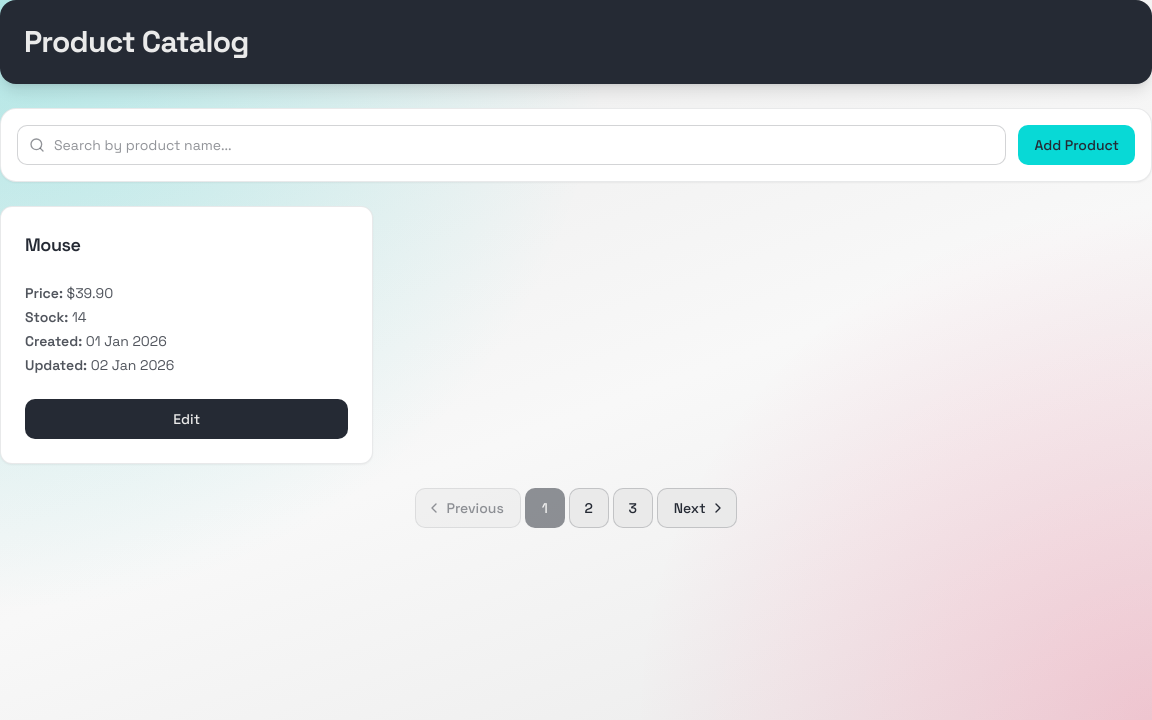
Scenario: ProductListPage integration › moves page via pagination and resets to page 1 when search changes
The image size is (1152, 720).
Click the button with aria-label "Go to next page".
click(697, 508)  # box [657,488,737,528]
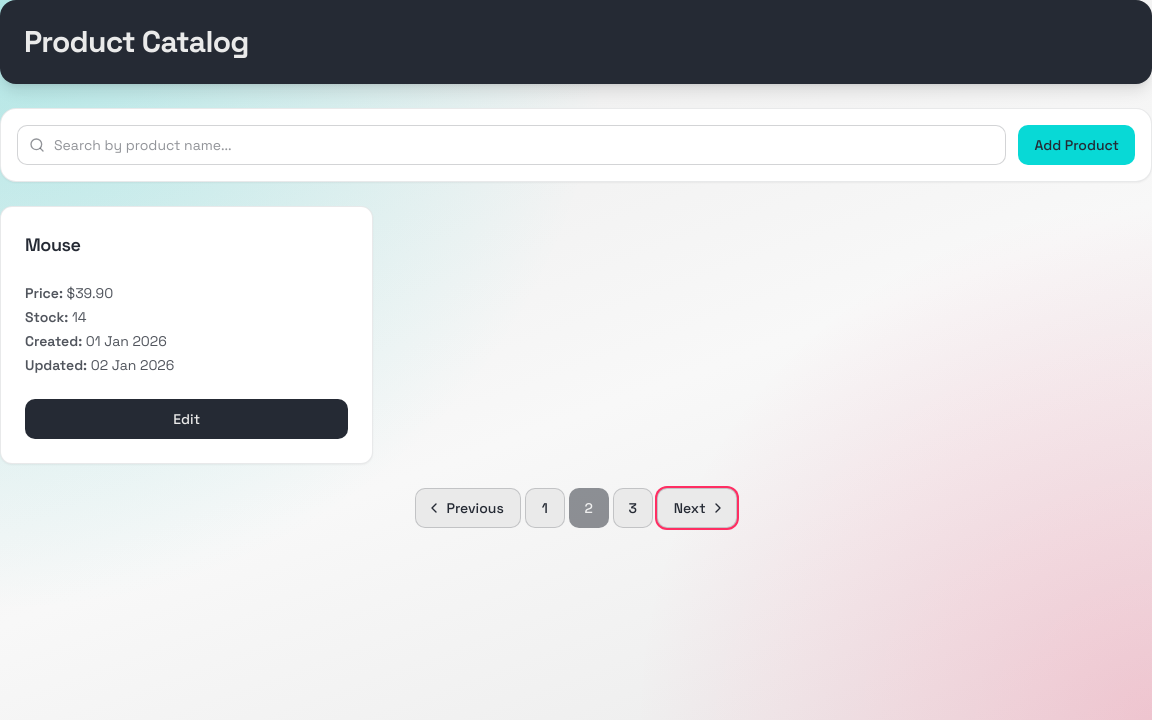
Type "desk" into the field with placeholder "Search by product name...".
click(512, 145); type("desk")  # box [17,125,1006,165]
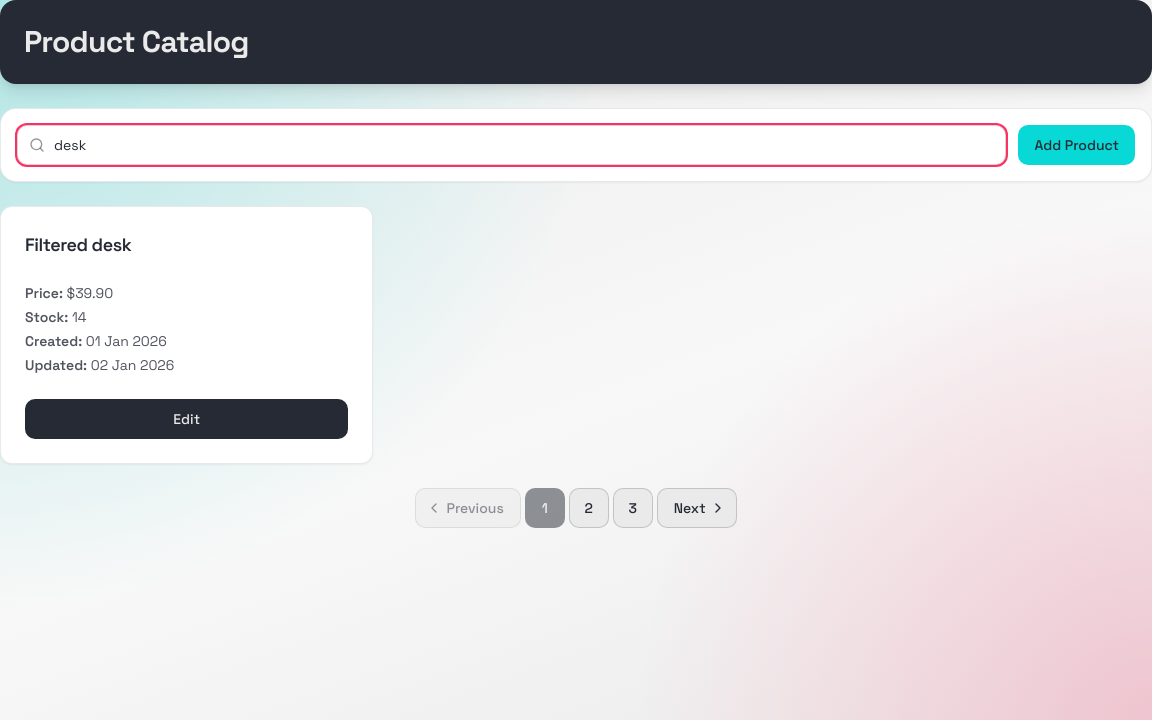
Check: the heading "Filtered desk" is shown, box [25,233,131,256]
